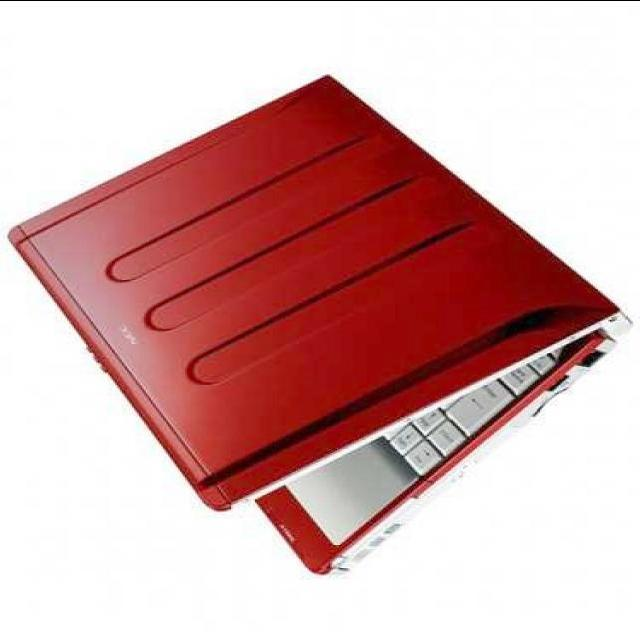-keyboard-: (10, 56, 628, 568)
